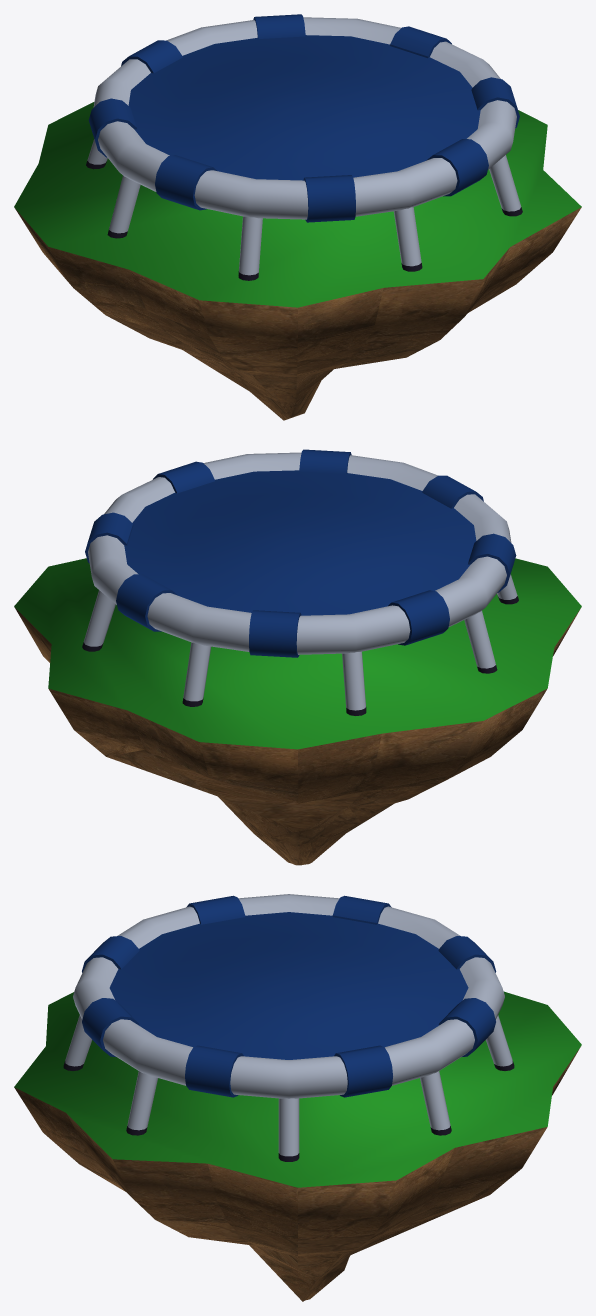
The model's file is Parco_p3.fbx.
3 views of the same model, one above another, from view 1: azimuth 30°, elevation 25°; view 2: azimuth 150°, elevation 25°; view 3: azimuth 270°, elevation 25° (orthographic).
Parts seen in each view (by area): view 1: ground.003, Trampoline; view 2: ground.003, Trampoline; view 3: ground.003, Trampoline.
Part boxes in pixels (x1=…): ground.003: x1=14, y1=102, x2=581, y2=420; Trampoline: x1=86, y1=14, x2=522, y2=280; ground.003: x1=14, y1=558, x2=581, y2=865; Trampoline: x1=82, y1=449, x2=518, y2=715; ground.003: x1=14, y1=991, x2=581, y2=1301; Trampoline: x1=63, y1=894, x2=514, y2=1161.
Bounding box in the file's own units: 1259 × 776 × 1240.
Materials: 3 (2 with a texture image).
